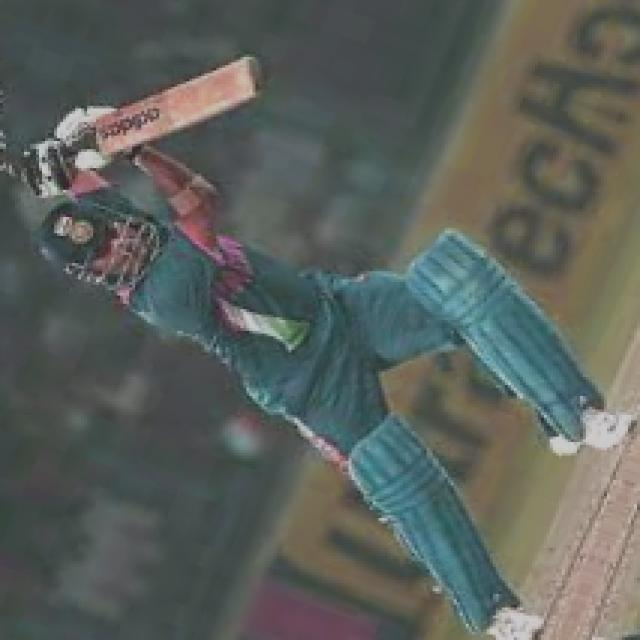toe: (214, 55, 264, 106)
